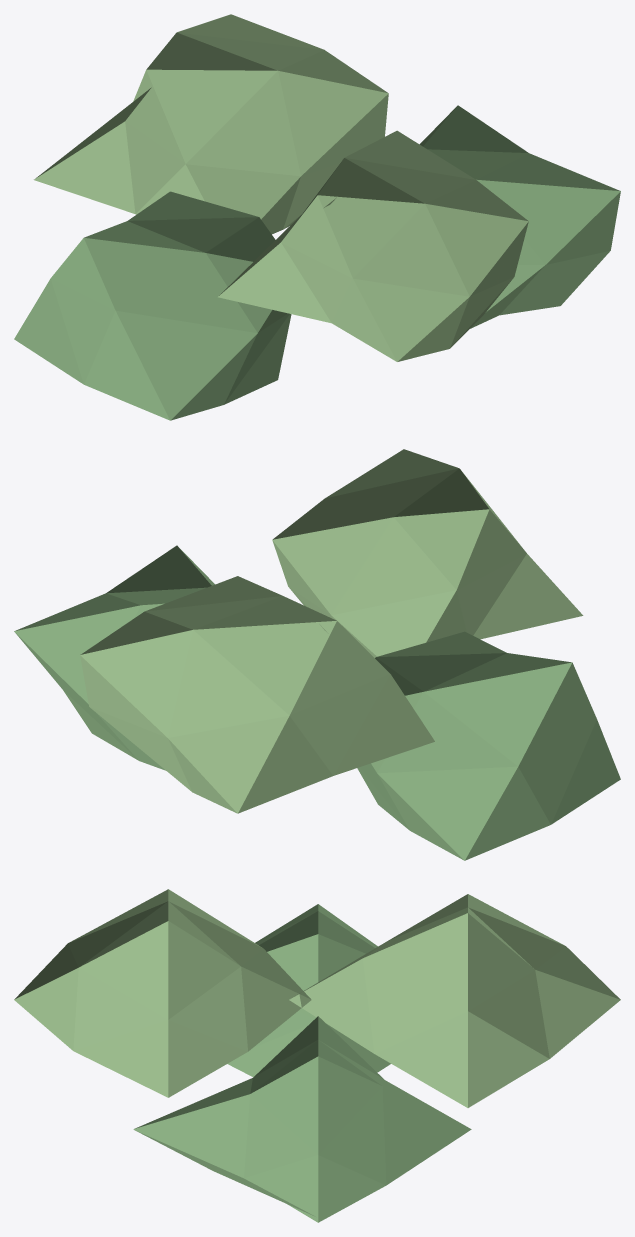
The model's file is shrub_v14.glb.
3 views of the same model, one above another, from view 1: azimuth 30°, elevation 25°; view 2: azimuth 150°, elevation 25°; view 3: azimuth 270°, elevation 25° (orthographic). The views are drawn at different scales.
Parts seen in each view (by area): view 1: lod0; view 2: lod0; view 3: lod0.
Part boxes in pixels (<box>): lod0: <box>14,14,620,420</box>; lod0: <box>14,449,620,860</box>; lod0: <box>14,889,620,1222</box>.
Size of what is drawn, in the model's own units: 1.73 by 0.8604 by 1.66.
